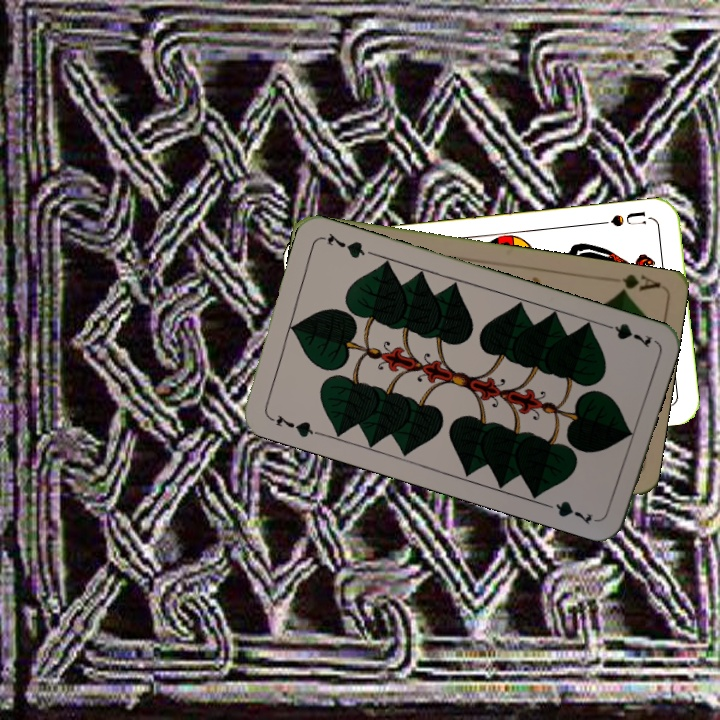G7: (597, 319, 654, 351), (264, 410, 322, 440)
GA: (613, 271, 663, 298)
SU: (595, 207, 654, 229)
